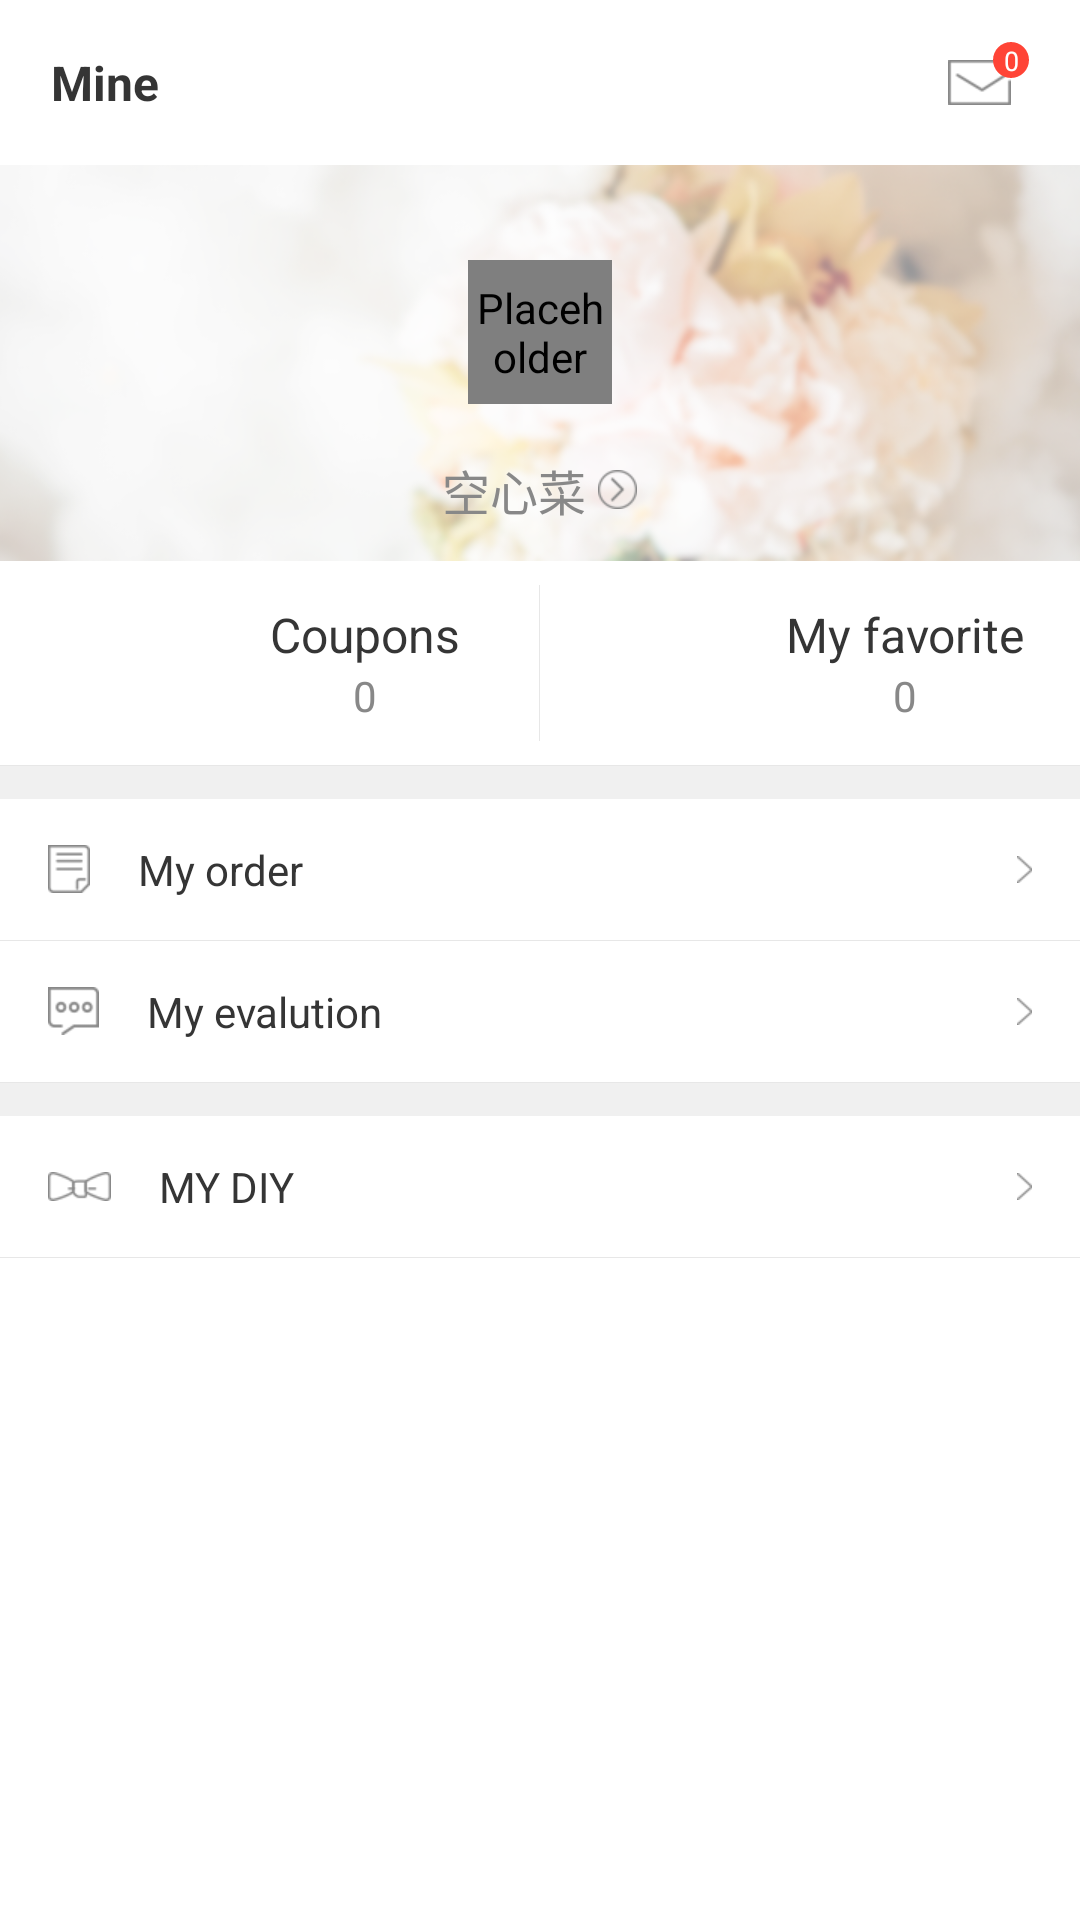

Locate icon controls on the screen. Image size 1080px x 1920px, boxes as (x1=x1, y1=y1, x2=x2, y2=y2).
evaluation: (x1=48, y1=987, x2=99, y2=1035)
letter: (x1=948, y1=42, x2=1029, y2=105)
